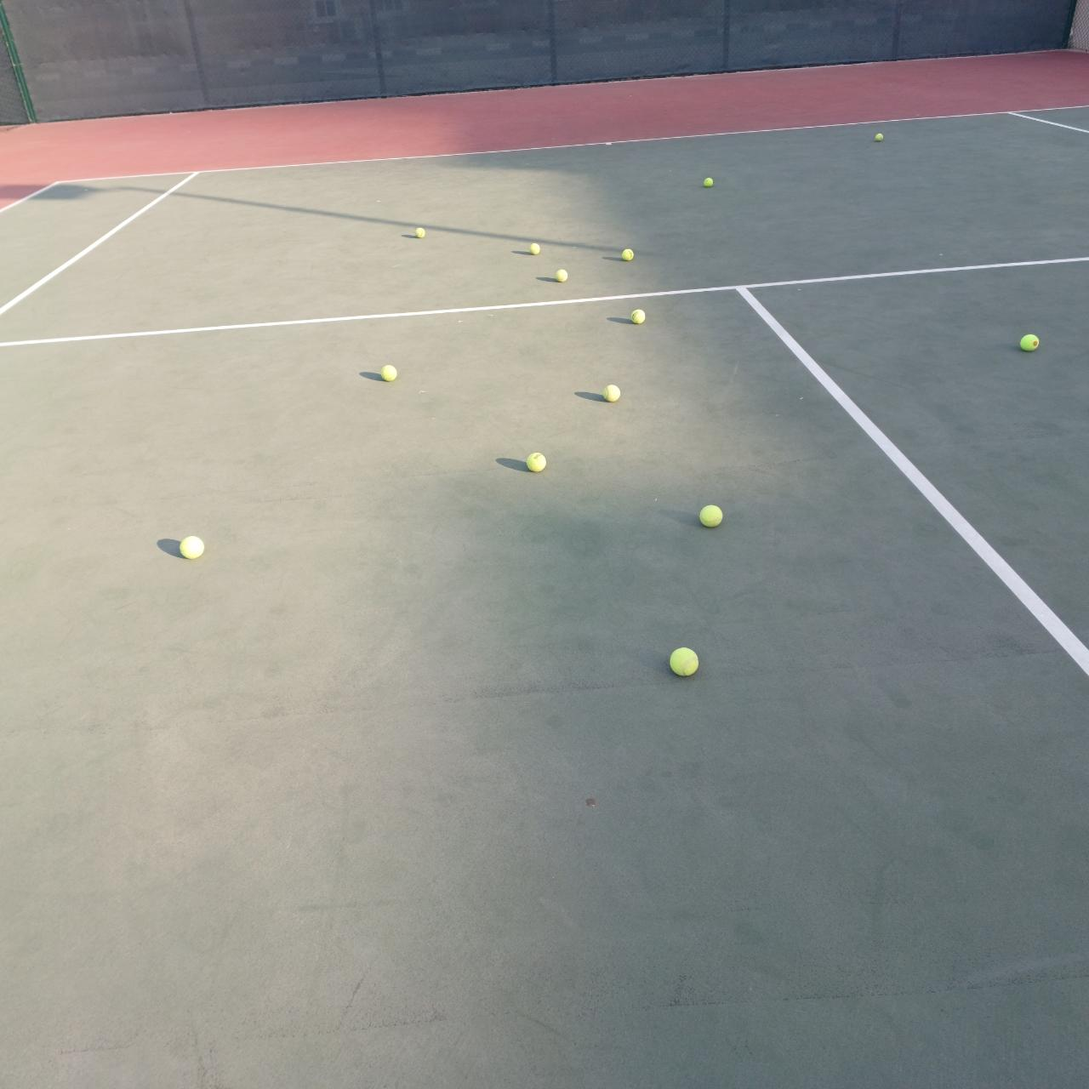tennis-ball: (668, 644, 699, 676), (178, 533, 204, 560), (698, 502, 723, 527), (525, 450, 546, 472), (379, 362, 397, 381), (1019, 334, 1039, 351), (603, 382, 620, 402), (630, 307, 646, 324), (555, 269, 567, 282), (622, 249, 634, 261), (530, 243, 540, 255), (416, 227, 426, 238), (704, 178, 713, 187), (875, 133, 883, 141)
